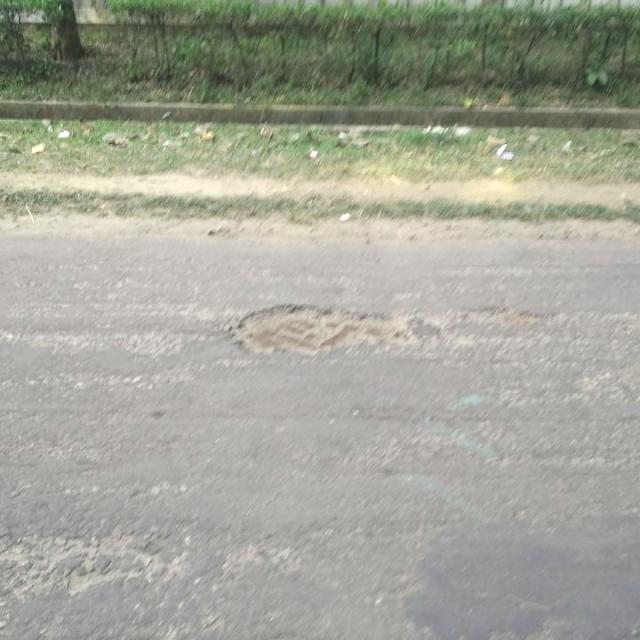pothole: (215, 286, 431, 378)
